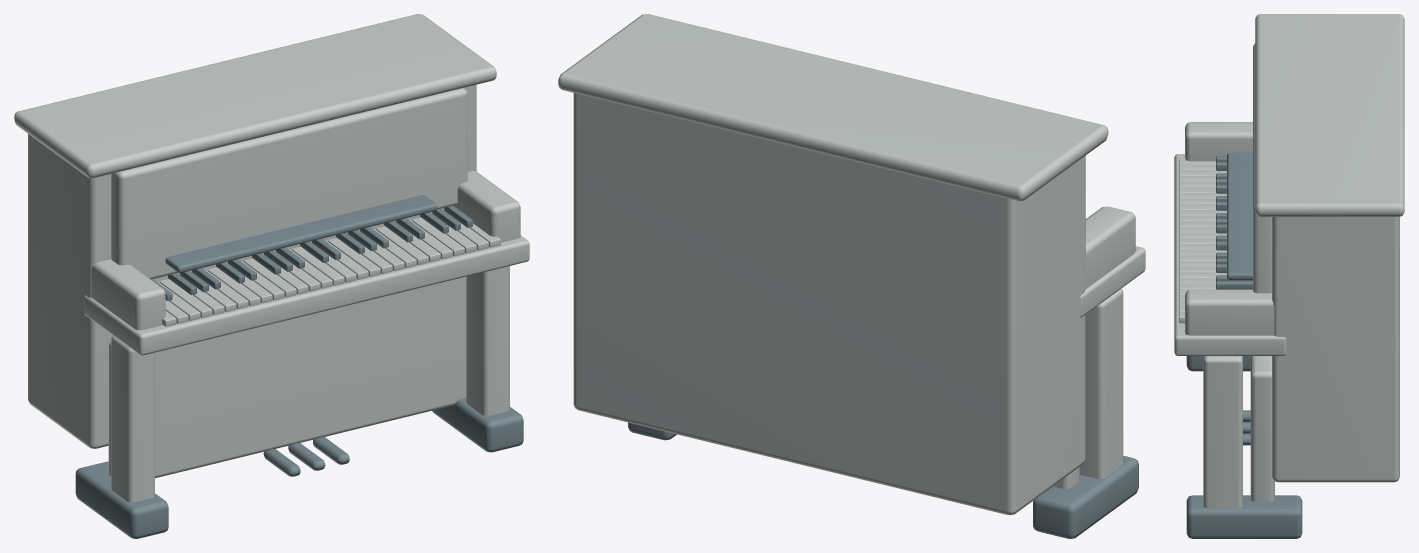
The model's file is piano.glb.
3 renders of one model, left to right at view 1: azimuth 30°, elevation 25°; view 2: azimuth 150°, elevation 25°; view 3: azimuth 270°, elevation 25°, orthographic. The views are drawn at different scales.
Visible parts, largest first — view 1: lower_front, soundboard_panel, top_lid, case, keybed, leg_-0.65, leg_0.65, music_ledge, cheek_-0.65, foot_-0.65, cheek_0.65, foot_0.65; view 2: case, top_lid, leg_-0.65, foot_-0.65, cheek_-0.65, keybed; view 3: case, top_lid, leg_0.65, foot_0.65, cheek_0.65, keybed, music_ledge, lower_front, cheek_-0.65, soundboard_panel, foot_-0.65, black_key_22 (+2 smaller).
Part boxes in pixels (bbox=[...]): lower_front: bbox=[108, 276, 466, 478]; soundboard_panel: bbox=[111, 88, 467, 279]; top_lid: bbox=[14, 14, 496, 178]; case: bbox=[28, 84, 476, 448]; keybed: bbox=[84, 235, 529, 355]; leg_-0.65: bbox=[111, 336, 154, 502]; leg_0.65: bbox=[466, 266, 509, 415]; music_ledge: bbox=[165, 195, 437, 272]; cheek_-0.65: bbox=[91, 259, 165, 330]; foot_-0.65: bbox=[75, 461, 168, 538]; cheek_0.65: bbox=[453, 171, 520, 242]; foot_0.65: bbox=[432, 397, 523, 452]; case: bbox=[573, 93, 1085, 514]; top_lid: bbox=[558, 14, 1108, 201]; leg_-0.65: bbox=[1079, 289, 1123, 478]; foot_-0.65: bbox=[1033, 456, 1138, 538]; cheek_-0.65: bbox=[1085, 206, 1135, 289]; keybed: bbox=[1080, 246, 1145, 317]; case: bbox=[1272, 216, 1399, 482]; top_lid: bbox=[1255, 14, 1404, 216]; leg_0.65: bbox=[1203, 356, 1242, 508]; foot_0.65: bbox=[1186, 495, 1302, 538]; cheek_0.65: bbox=[1185, 289, 1274, 335]; keybed: bbox=[1174, 154, 1286, 355]; music_ledge: bbox=[1227, 152, 1252, 279]; lower_front: bbox=[1250, 356, 1274, 501]; cheek_-0.65: bbox=[1185, 122, 1252, 161]; soundboard_panel: bbox=[1253, 43, 1271, 293]; foot_-0.65: bbox=[1186, 356, 1250, 371]; black_key_22: bbox=[1216, 281, 1252, 289].
Size of the model in its own units: 1.5 by 1.23 by 0.755.
